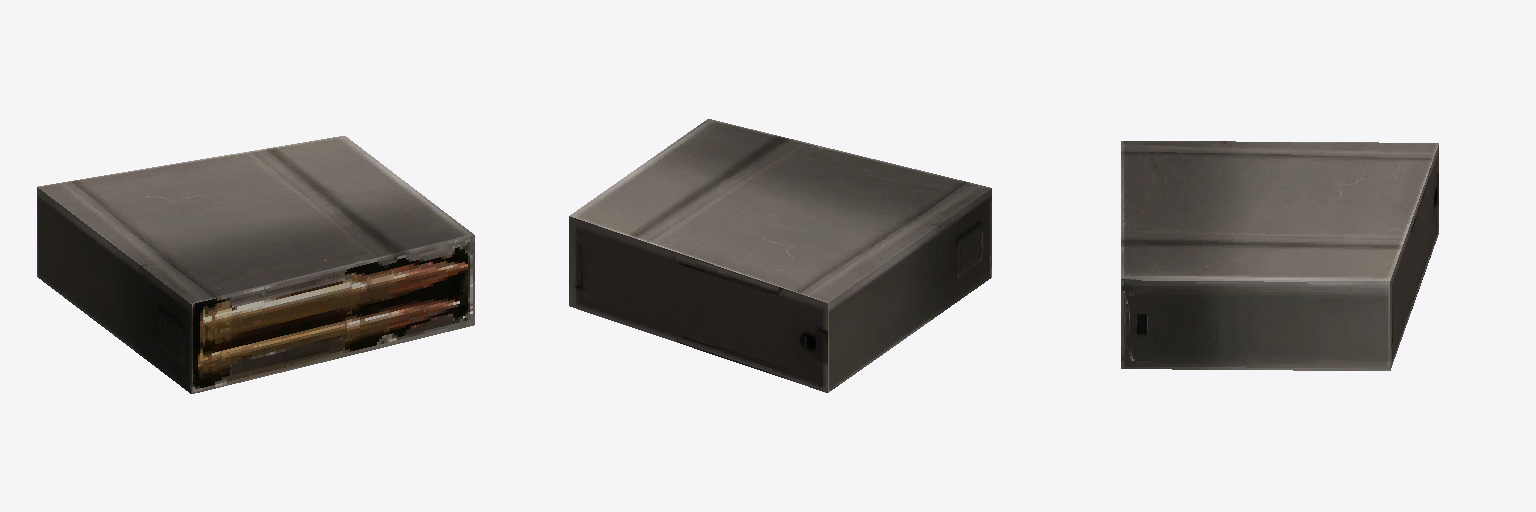
3 renders of one model, left to right at view 1: azimuth 30°, elevation 25°; view 2: azimuth 150°, elevation 25°; view 3: azimuth 270°, elevation 25°, orthographic.
Visible parts, largest first — view 1: mtl_weapon_m14; view 2: mtl_weapon_m14; view 3: mtl_weapon_m14.
Part boxes in pixels (x1,y1,x2,y2): mtl_weapon_m14: (37, 136, 474, 393); mtl_weapon_m14: (569, 119, 991, 392); mtl_weapon_m14: (1121, 141, 1438, 370).
Bounding box in the file's own units: 6.87 × 2.05 × 6.58.
1 materials, 1 textured.